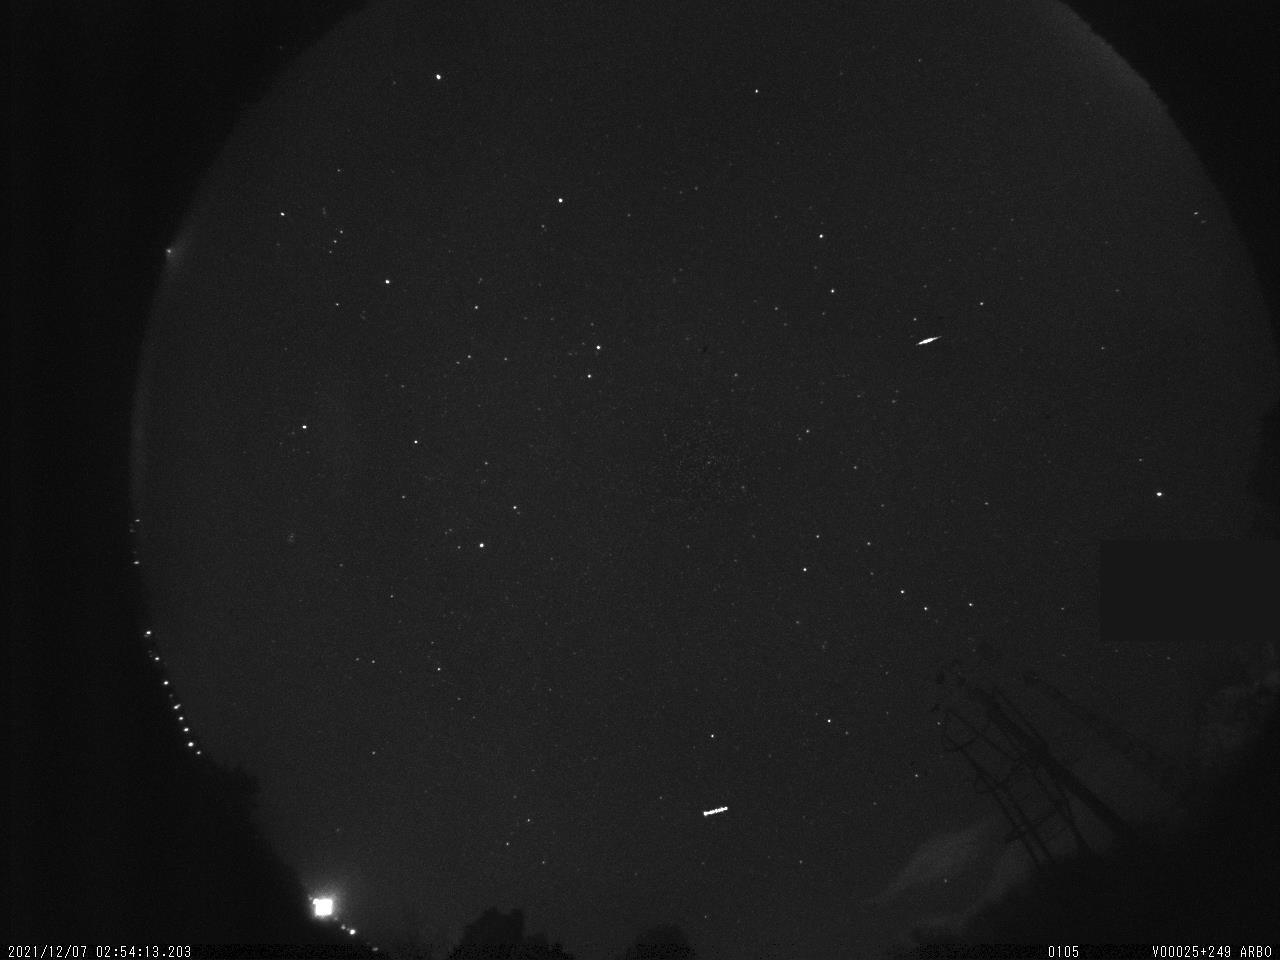Meteor: (911, 328, 949, 354)
